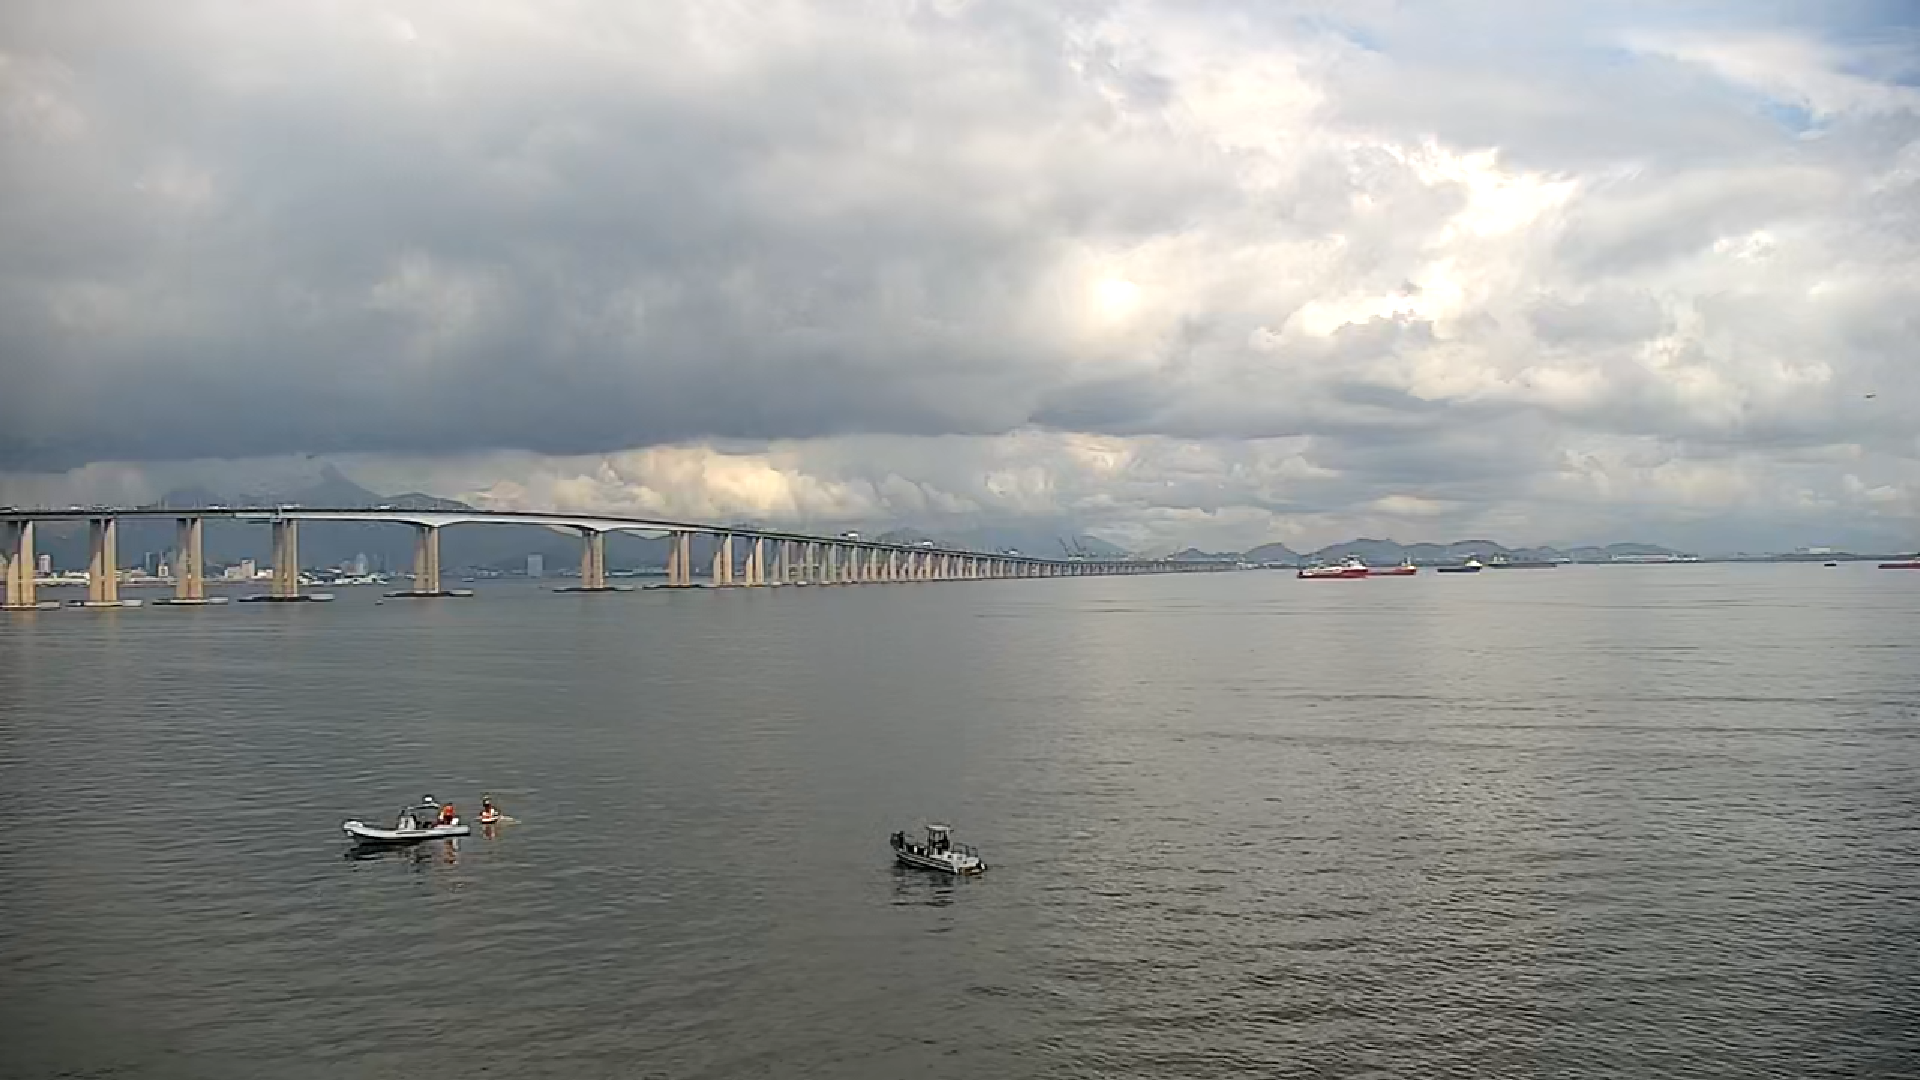Ship6: (340, 793, 478, 853), (886, 817, 992, 883)
